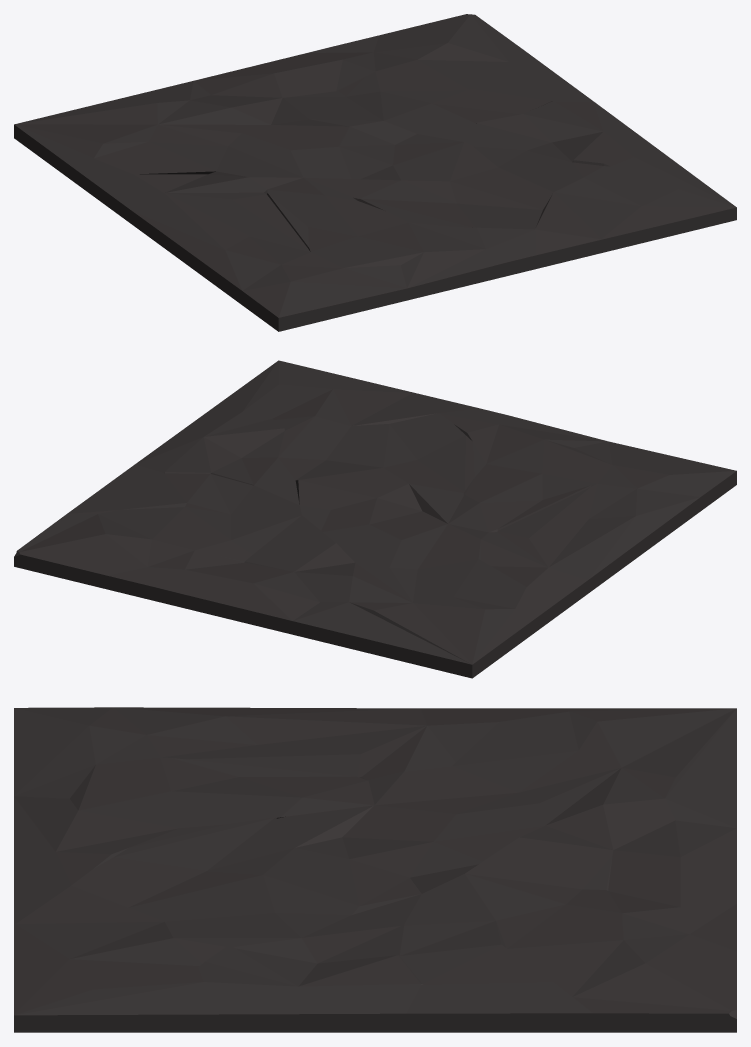
File: Stone_Module_1M.glb
3 views of the same model, one above another, from view 1: azimuth 30°, elevation 25°; view 2: azimuth 150°, elevation 25°; view 3: azimuth 270°, elevation 25° (orthographic). The views are drawn at different scales.
Parts seen in each view (by area): view 1: Stone_Module_1M; view 2: Stone_Module_1M; view 3: Stone_Module_1M.
Part boxes in pixels (x1,y1,x2,y2): Stone_Module_1M: [14, 14, 736, 331]; Stone_Module_1M: [14, 360, 736, 678]; Stone_Module_1M: [14, 707, 736, 1032].
Size of what is drawn, in the model's own units: 1 by 0.053 by 1.
1 material, 1 textured.
